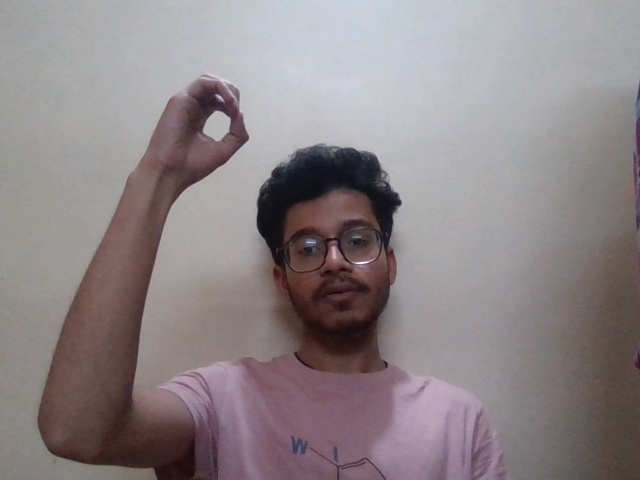O: (126, 55, 268, 195)
